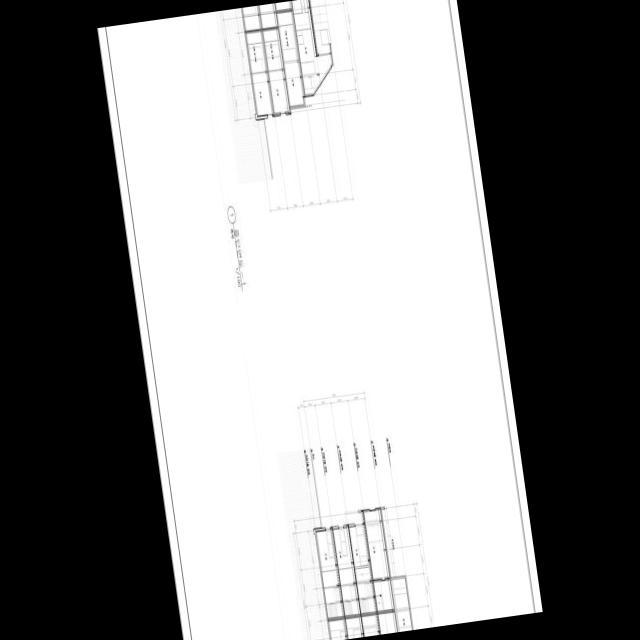background: (97, 0, 543, 640)
space_bedroom: (391, 578, 413, 632), (251, 73, 273, 116), (268, 71, 289, 115), (284, 62, 304, 108), (378, 612, 397, 635), (328, 619, 347, 640), (345, 617, 363, 639), (361, 615, 379, 637)
space_kitchen: (277, 12, 299, 62), (245, 32, 267, 74), (262, 29, 283, 72)
space_living_room: (363, 509, 389, 579), (315, 529, 339, 588), (332, 526, 355, 585), (349, 524, 372, 583), (242, 6, 261, 31), (259, 3, 277, 28)
space_staircase: (323, 586, 344, 618), (373, 580, 394, 611), (341, 583, 360, 616), (357, 581, 376, 614)
